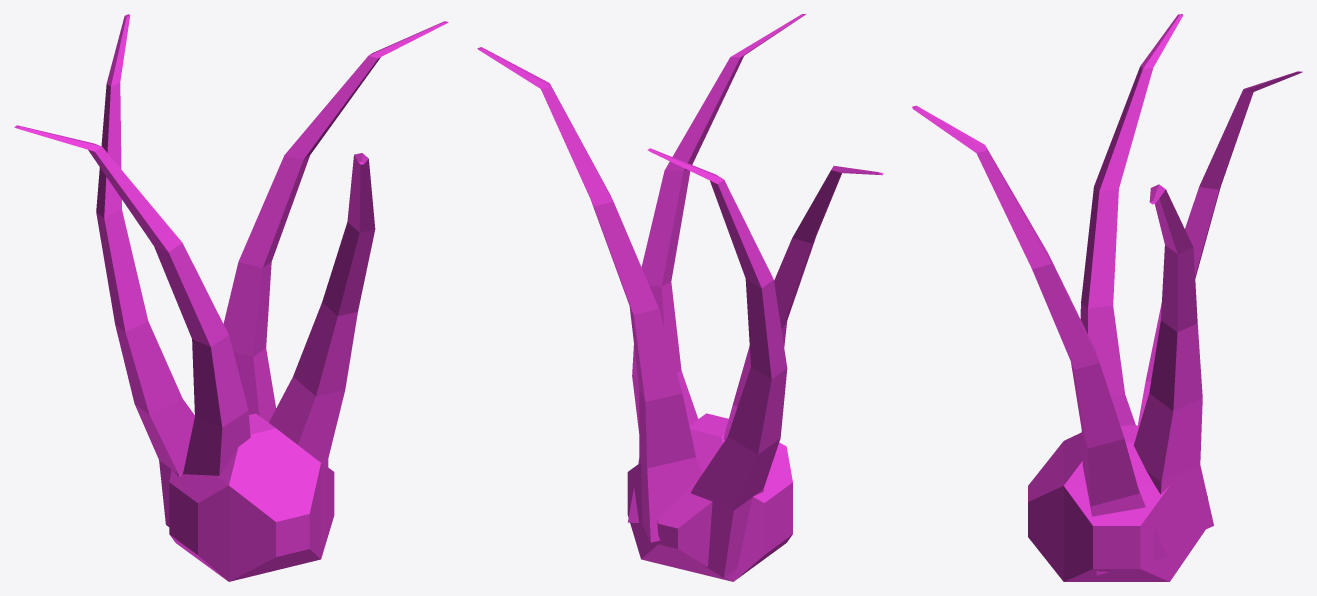
Rendered from npc.glb.
3 renders of one model, left to right at view 1: azimuth 30°, elevation 25°; view 2: azimuth 150°, elevation 25°; view 3: azimuth 270°, elevation 25°, orthographic.
Parts seen in each view (by area): view 1: _cs_body; view 2: _cs_body; view 3: _cs_body.
Part boxes in pixels (x1=…): _cs_body: x1=14, y1=14, x2=448, y2=581; _cs_body: x1=477, y1=14, x2=883, y2=581; _cs_body: x1=912, y1=14, x2=1302, y2=581.
Bounding box in the file's own units: 13.13 × 14.23 × 10.62.
